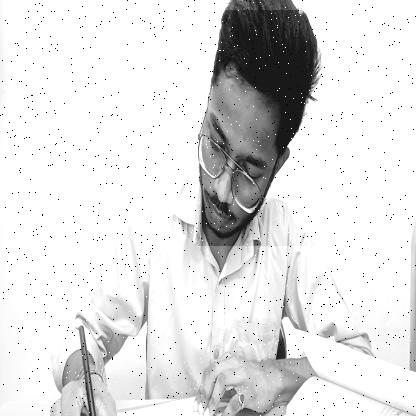Distracted: (195, 11, 318, 246)
